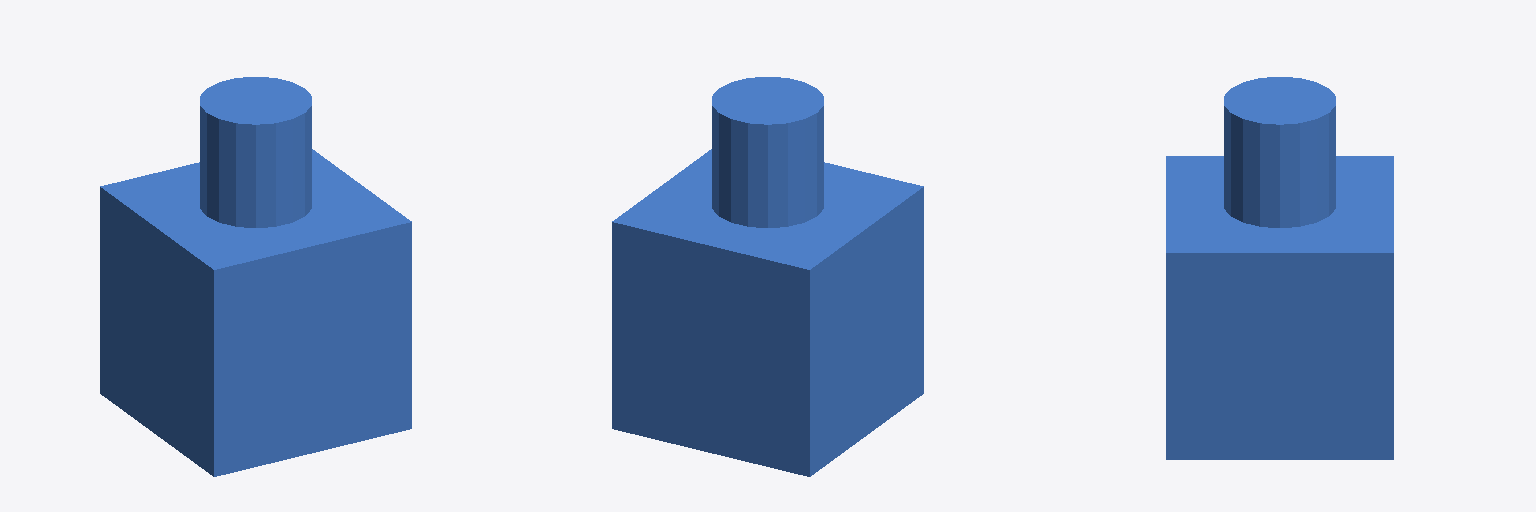
The model's file is Pieza1.obj.
3 renders of one model, left to right at view 1: azimuth 30°, elevation 25°; view 2: azimuth 150°, elevation 25°; view 3: azimuth 270°, elevation 25°, orthographic.
Visible parts, largest first — view 1: Box001; view 2: Box001; view 3: Box001.
Boxes of the visible parts, x1,y1,x2,y2 form: Box001: [100, 77, 411, 476]; Box001: [612, 77, 923, 476]; Box001: [1166, 77, 1393, 459].
Size of the model in its own units: 10 by 15 by 10.